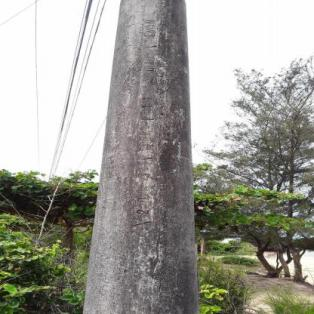Poste: (79, 5, 215, 313)
